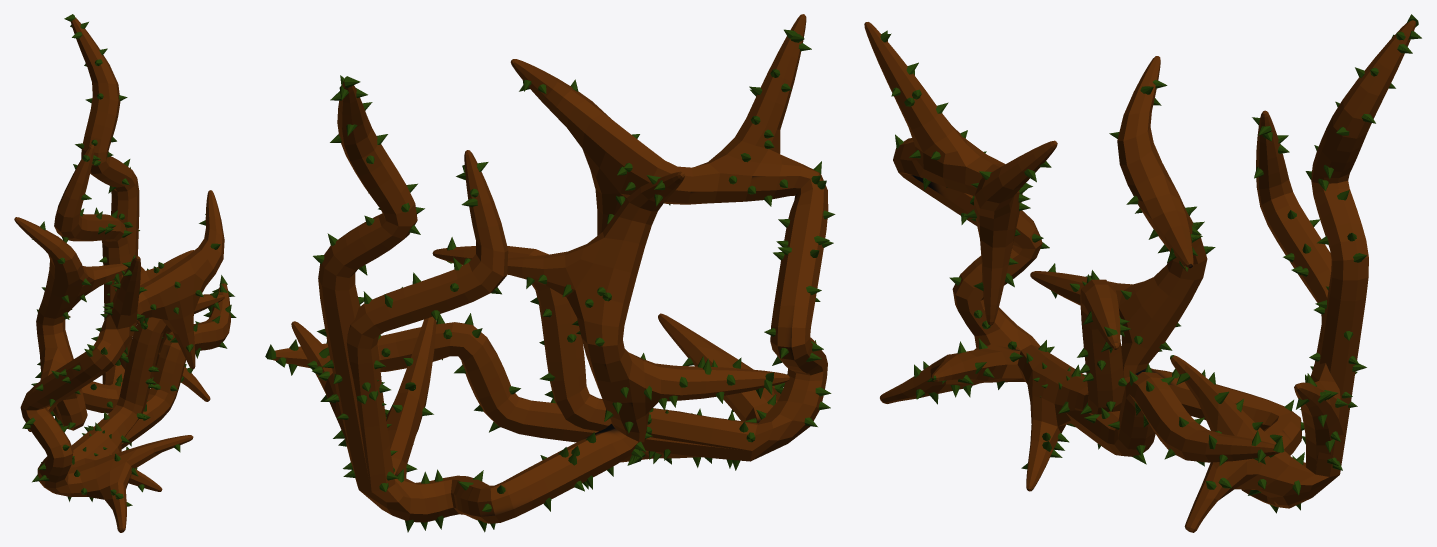
File: Obstaculo_Pasillo.001.glb
The picture shows the model from 3 angles, left to right: view 1: azimuth 30°, elevation 25°; view 2: azimuth 150°, elevation 25°; view 3: azimuth 270°, elevation 25°; orthographic projection. The views are drawn at different scales.
Parts seen in each view (by area): view 1: Obstaculo_Pasillo.001; view 2: Obstaculo_Pasillo.001; view 3: Obstaculo_Pasillo.001.
Boxes of the visible parts, box(x1,y1,x2,y2) form: Obstaculo_Pasillo.001: box(14, 14, 236, 532); Obstaculo_Pasillo.001: box(265, 14, 835, 532); Obstaculo_Pasillo.001: box(864, 14, 1421, 532).
Size of the model in its own units: 5.7 by 6.56 by 6.54.
1 material, 1 textured.
